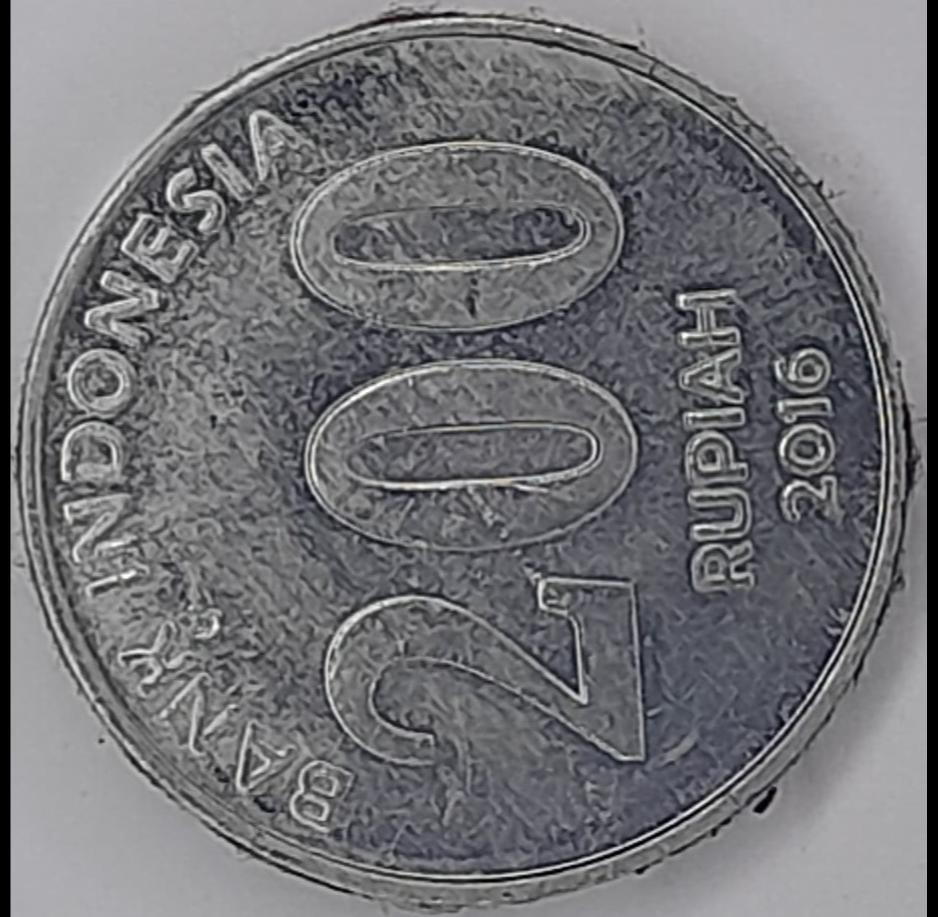coin_200_e2016: (0, 16, 938, 917)
